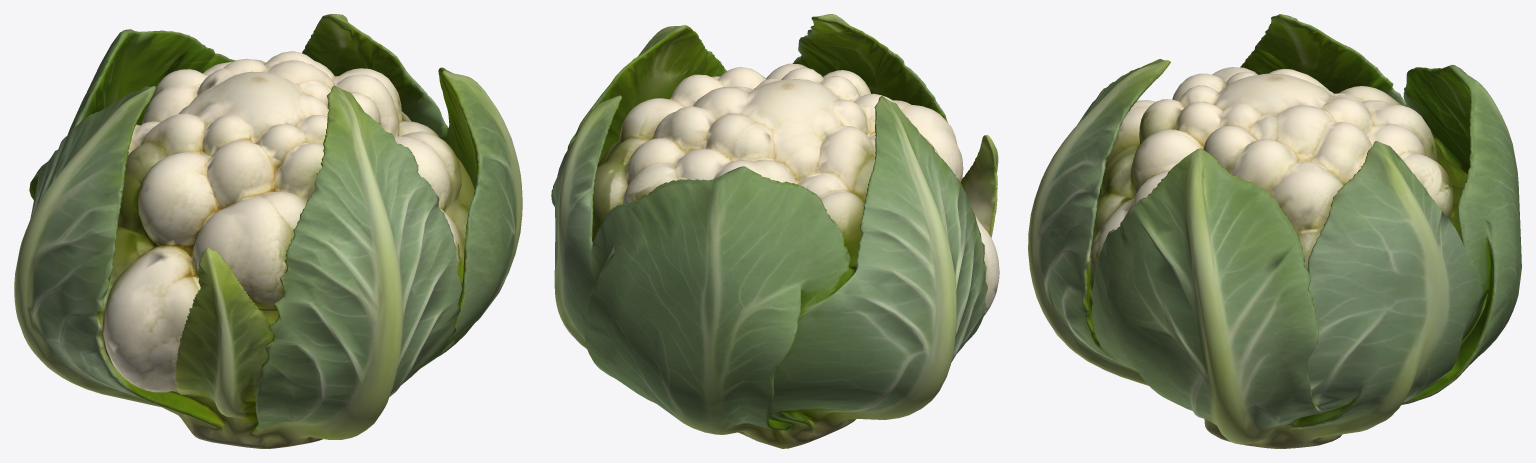
Rendered from green_grapes.glb.
3 renders of one model, left to right at view 1: azimuth 30°, elevation 25°; view 2: azimuth 150°, elevation 25°; view 3: azimuth 270°, elevation 25°, orthographic. The views are drawn at different scales.
Parts seen in each view (by area): view 1: node_0; view 2: node_0; view 3: node_0.
Part boxes in pixels (box(x1,y1,x2,y2)): node_0: box(14, 14, 522, 448); node_0: box(551, 14, 999, 448); node_0: box(1028, 14, 1521, 448).
Size of the model in its own units: 1.13 by 0.9441 by 1.11.
Materials: 1 (1 with a texture image).
